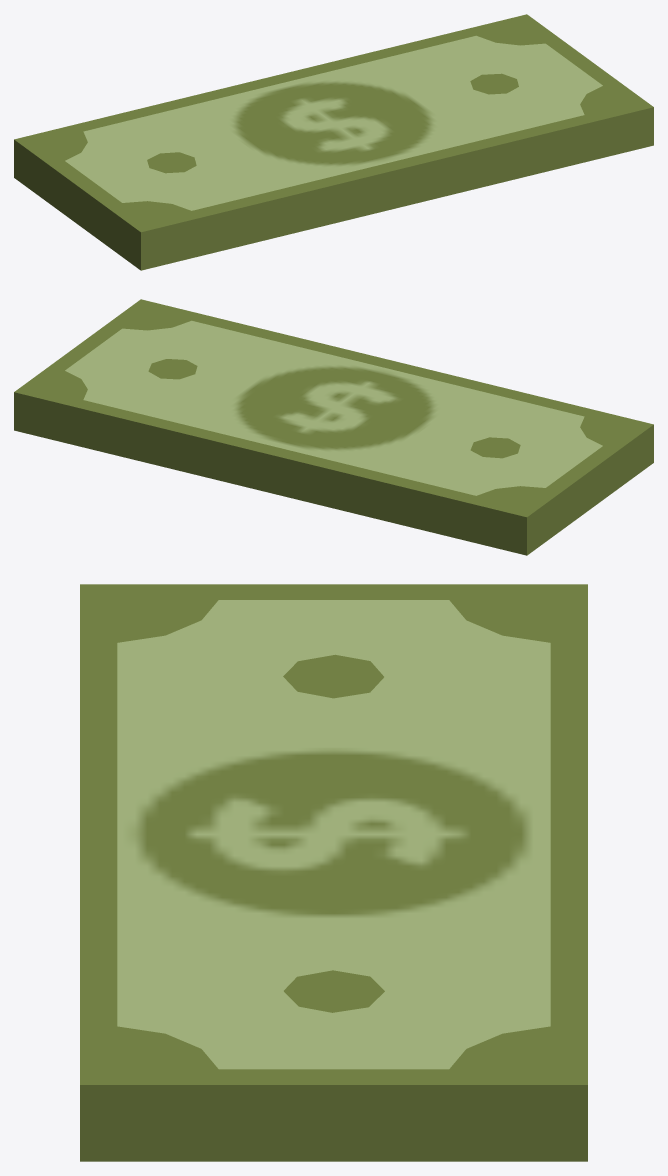
Rendered from SM_Props_Interior_Shop_Cash.fbx.
3 views of the same model, one above another, from view 1: azimuth 30°, elevation 25°; view 2: azimuth 150°, elevation 25°; view 3: azimuth 270°, elevation 25° (orthographic). The views are drawn at different scales.
Visible parts, largest first — view 1: SM_Props_Interior_Shop_Cash; view 2: SM_Props_Interior_Shop_Cash; view 3: SM_Props_Interior_Shop_Cash.
Boxes of the visible parts, box(x1,y1,x2,y2) form: SM_Props_Interior_Shop_Cash: box(14, 14, 653, 270); SM_Props_Interior_Shop_Cash: box(14, 299, 653, 555); SM_Props_Interior_Shop_Cash: box(80, 584, 587, 1161).
Bounding box in the file's own units: 14 × 1 × 6.
